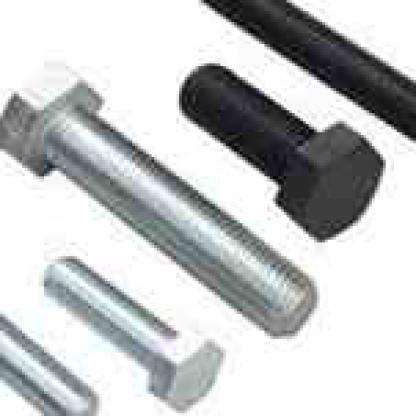FOD: (0, 60, 323, 345), (176, 60, 392, 242), (40, 255, 227, 412)
